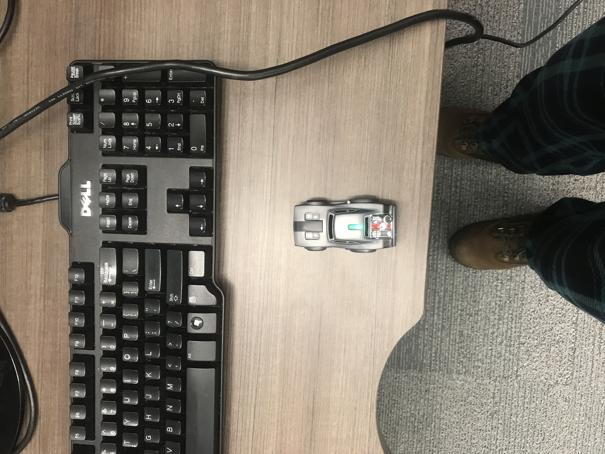Charger: (292, 194, 399, 251)
